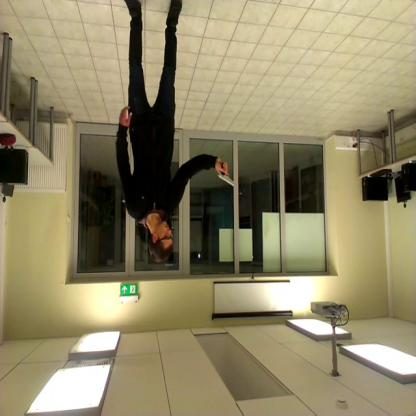Pistol: (214, 160, 240, 194)
